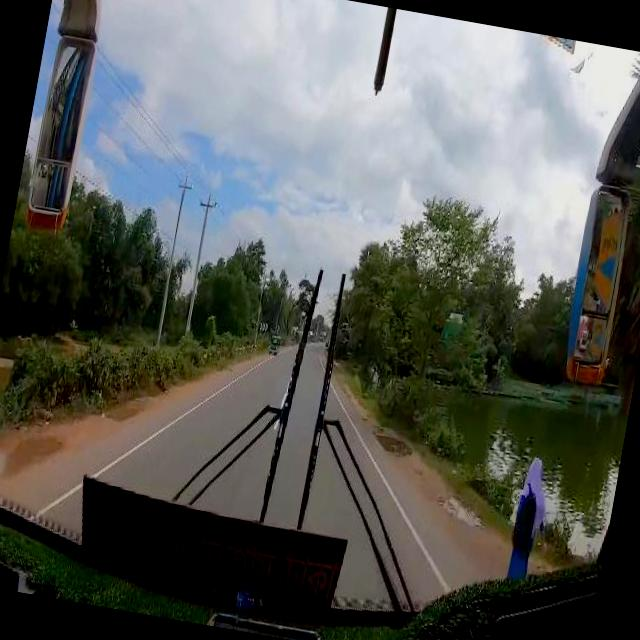motorcycle: (268, 332, 280, 352)
